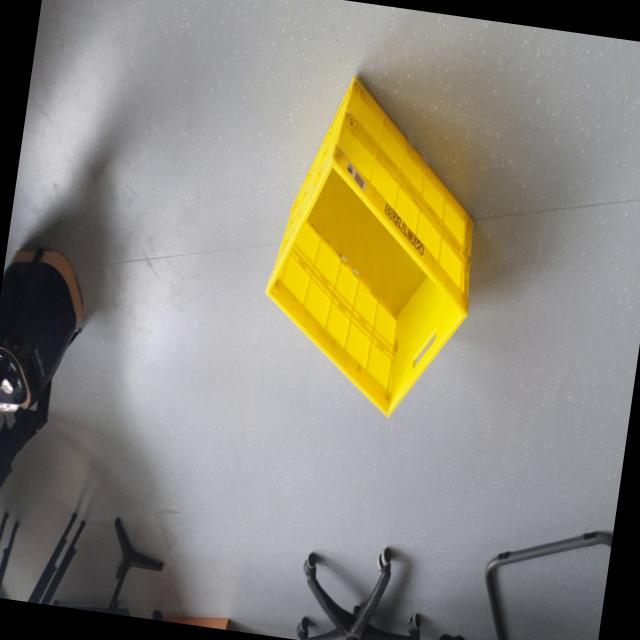box: (243, 41, 512, 448)
